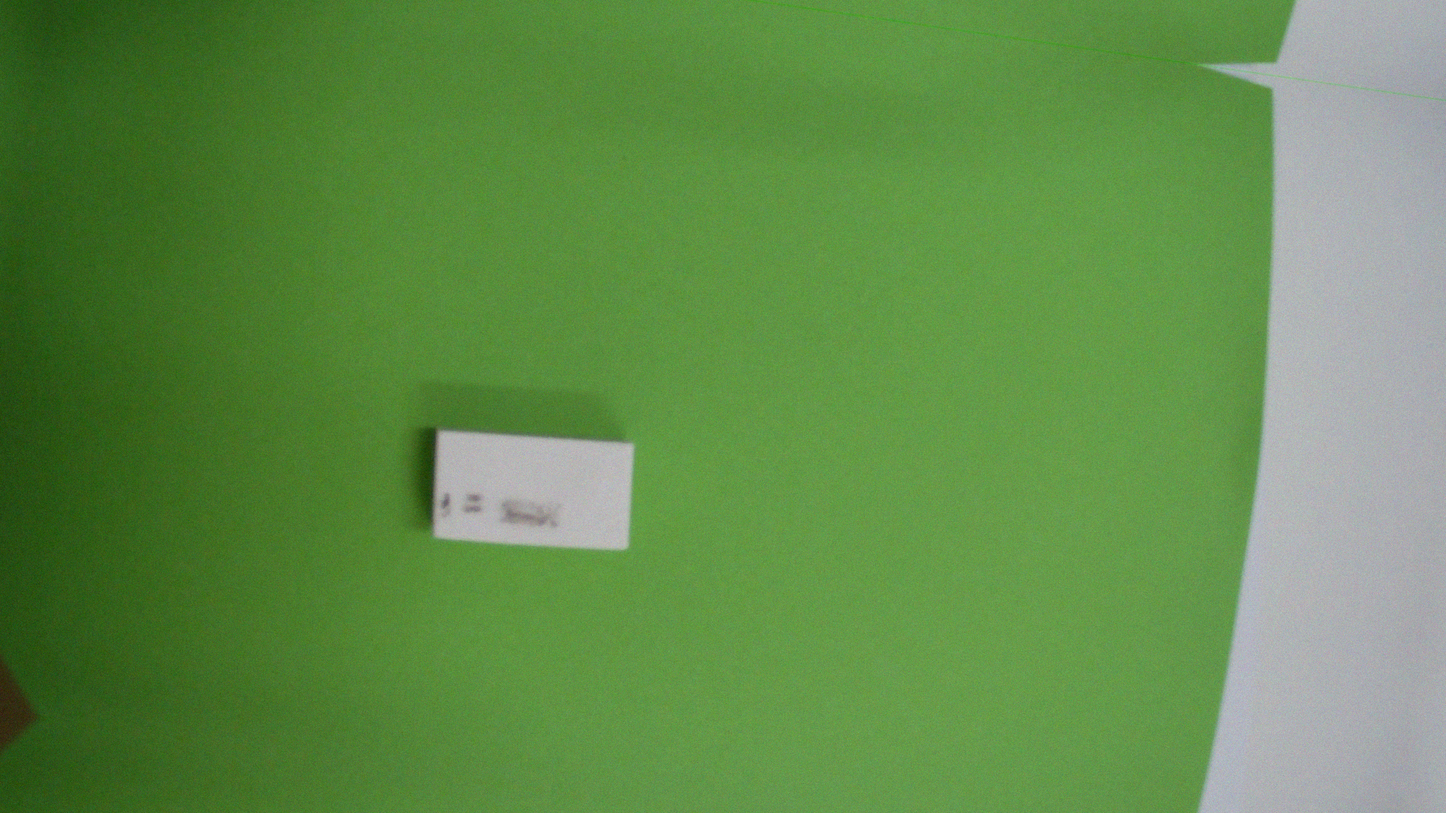gom: (416, 403, 645, 577)
